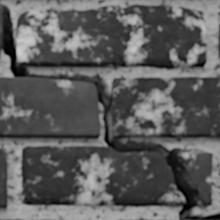brick: (17, 5, 206, 67), (112, 77, 219, 137), (0, 77, 99, 137), (0, 149, 6, 206), (0, 5, 1, 51)
broken_brick: (21, 144, 183, 206), (171, 147, 213, 205)
crack: (0, 2, 219, 219)
